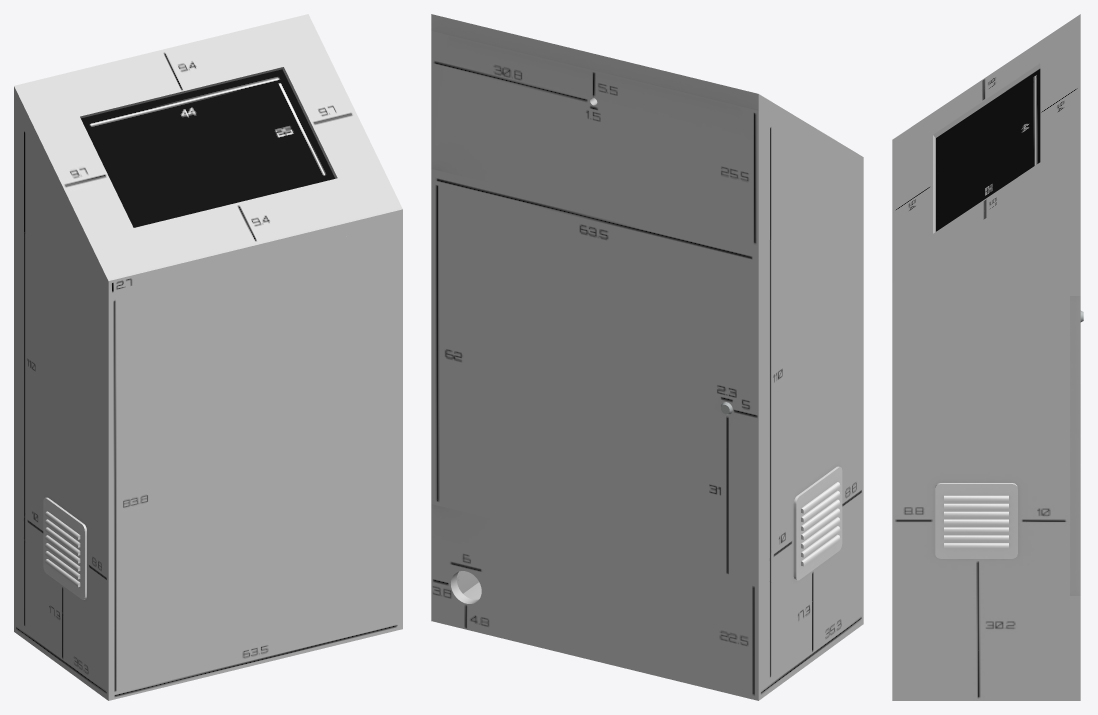
The model's file is mdl_mumbo_case.gltf.
3 views of the same model, side by side, from view 1: azimuth 30°, elevation 25°; view 2: azimuth 150°, elevation 25°; view 3: azimuth 270°, elevation 25° (orthographic). The views are drawn at different scales.
Visible parts, largest first — view 1: Box02, Panel, Door; view 2: Box02, Door, Panel; view 3: Box02, Panel, Door.
Boxes of the visible parts, x1=… form: Box02: x1=14, y1=101, x2=402, y2=700; Panel: x1=14, y1=14, x2=402, y2=294; Door: x1=14, y1=225, x2=19, y2=529; Box02: x1=431, y1=31, x2=863, y2=700; Door: x1=431, y1=169, x2=764, y2=583; Panel: x1=431, y1=14, x2=863, y2=171; Box02: x1=892, y1=172, x2=1080, y2=700; Panel: x1=892, y1=14, x2=1080, y2=295; Door: x1=1070, y1=296, x2=1083, y2=595.
Bounding box in the file's own units: 65.51 × 113 × 35.84.
Materials: 1 (1 with a texture image).
